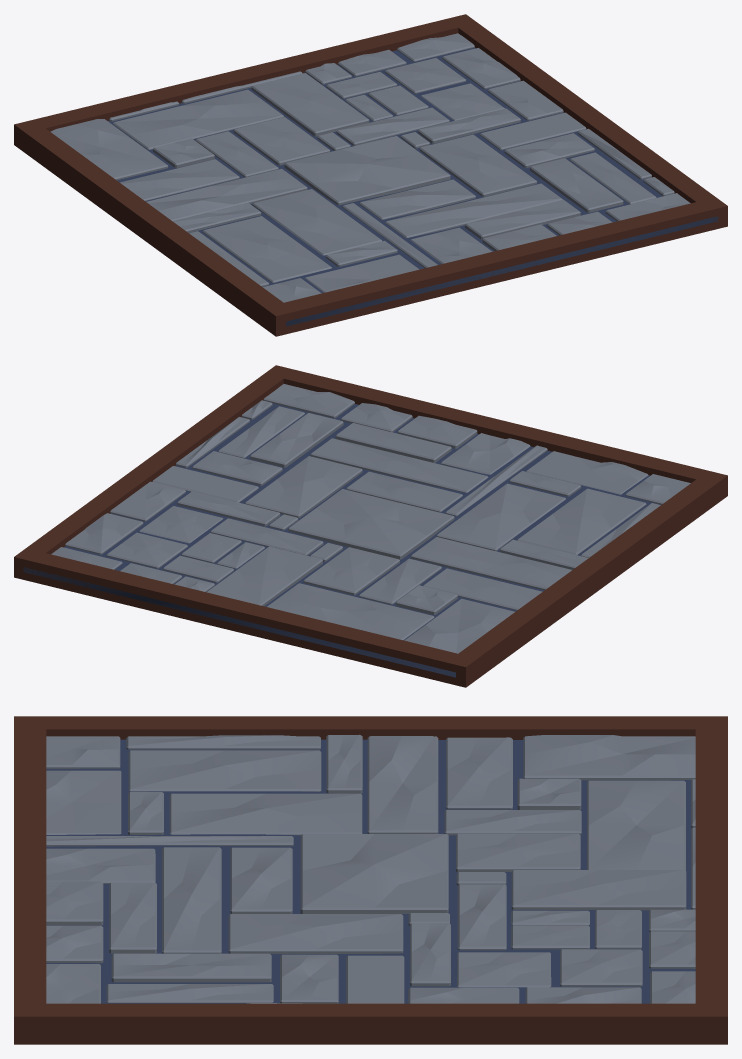
File: Floor_Final.fbx
3 renders of one model, top to bottom at view 1: azimuth 30°, elevation 25°; view 2: azimuth 150°, elevation 25°; view 3: azimuth 270°, elevation 25°, orthographic. The views are drawn at different scales.
Parts seen in each view (by area): view 1: Floor_Final1; view 2: Floor_Final1; view 3: Floor_Final1.
Boxes of the visible parts, x1,y1,x2,y2 form: Floor_Final1: (14, 14, 727, 336); Floor_Final1: (14, 365, 727, 687); Floor_Final1: (14, 716, 727, 1044).
Bounding box in the file's own units: 46 × 2.27 × 46.2.
